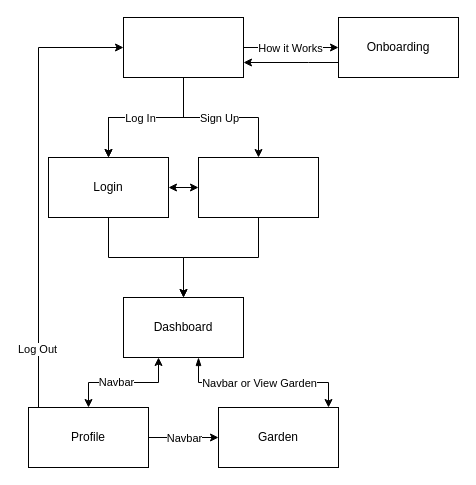
Some shapes in this 476 by 485 pixel diagram are drawn without their labels. Each missing label, with the centre of its shape:
"Signup" belongs at (258,187).
"Splash" belongs at (183,47).
